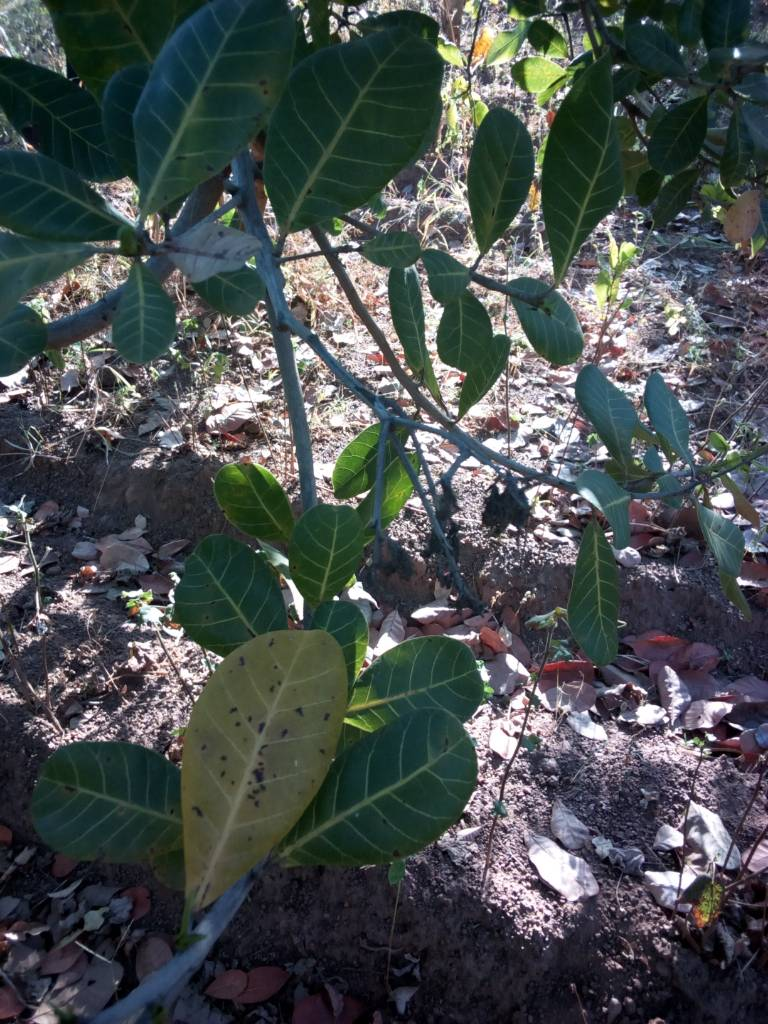Anthracnose: (182, 617, 361, 911), (135, 3, 290, 224)
